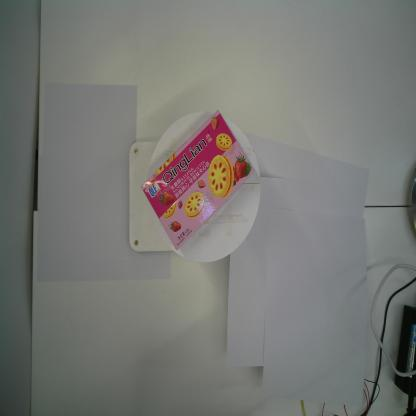Dessert: (140, 108, 254, 252)
